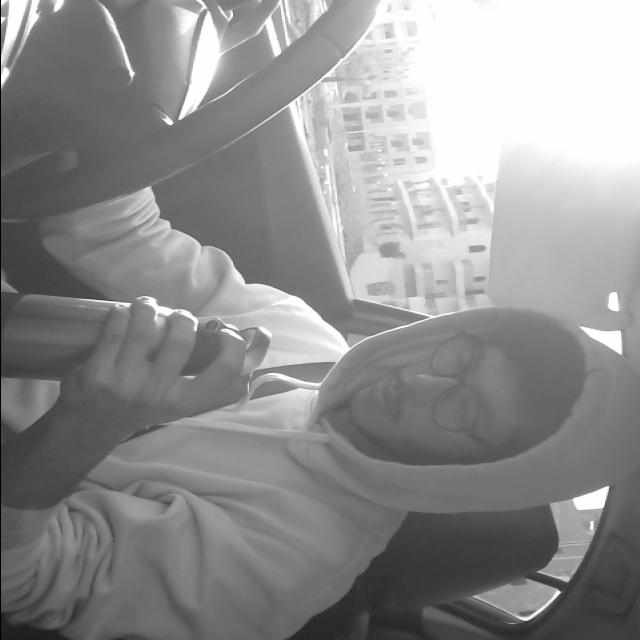drinking: (0, 289, 271, 384)
